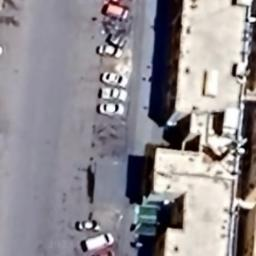sedan: (92, 43, 126, 62), (96, 101, 126, 120), (98, 70, 128, 88), (96, 86, 128, 102), (74, 216, 102, 234)
van: (80, 232, 116, 252)
